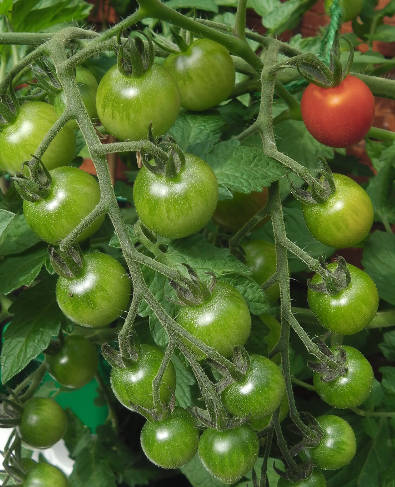stems: (169, 321, 244, 380), (1, 43, 50, 125), (135, 251, 207, 306), (28, 106, 72, 185), (270, 145, 326, 199), (289, 311, 336, 372), (63, 199, 105, 266), (285, 357, 318, 439), (286, 237, 336, 288), (277, 53, 342, 90), (101, 143, 172, 169), (151, 343, 173, 417), (277, 419, 300, 478), (118, 289, 135, 368)
tomato: (133, 153, 219, 239), (95, 61, 182, 142), (21, 166, 107, 243), (174, 282, 252, 358), (54, 252, 130, 329), (1, 100, 75, 179), (300, 72, 375, 149), (164, 37, 236, 116), (304, 172, 376, 248), (308, 261, 380, 335), (105, 343, 177, 412), (218, 354, 284, 419), (313, 345, 375, 410), (140, 407, 199, 469), (199, 423, 258, 483), (298, 414, 357, 470), (44, 334, 99, 389), (19, 396, 66, 449), (21, 461, 69, 487), (276, 470, 328, 487)
